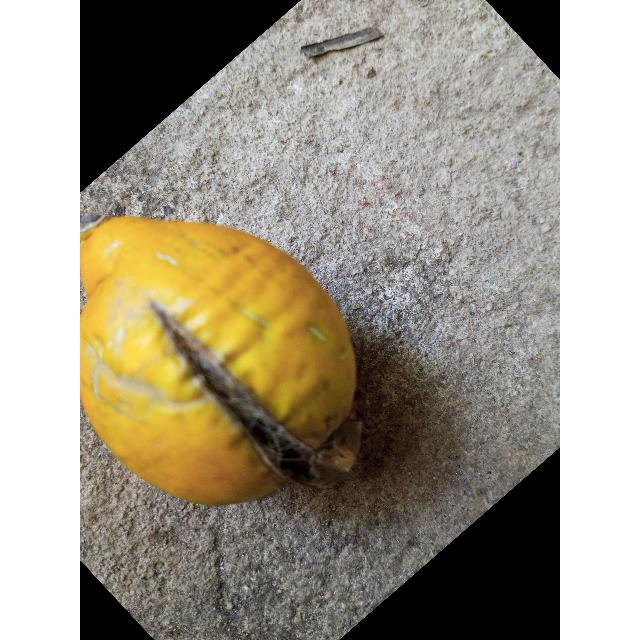damaged: (80, 215, 362, 505)
